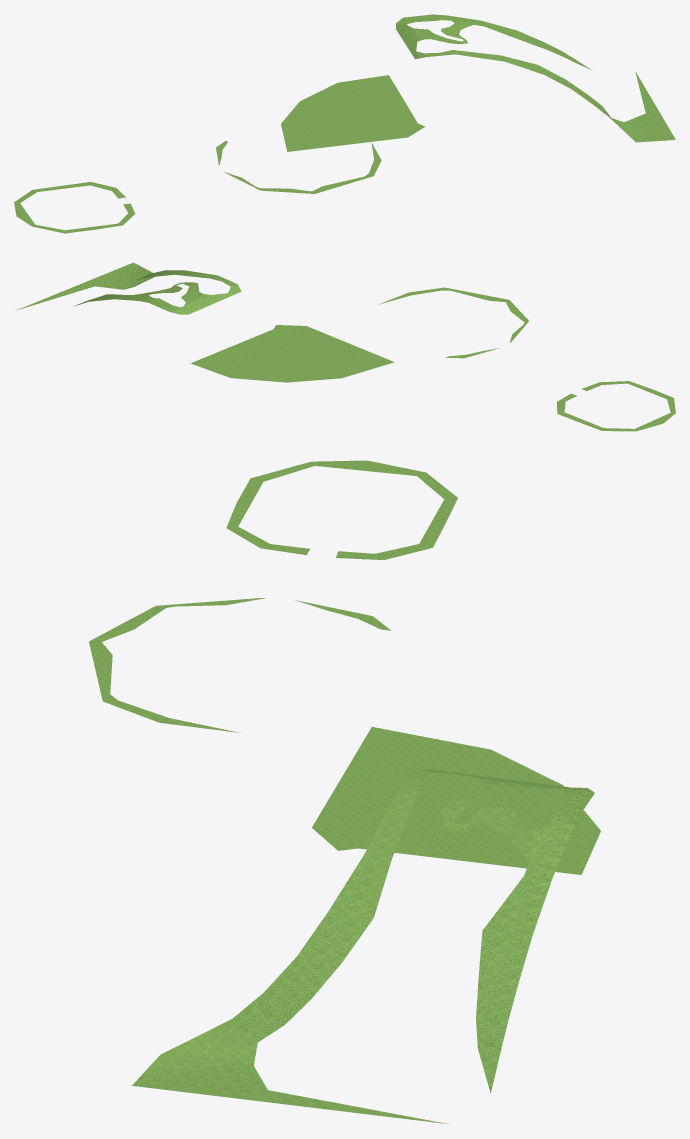
The model's file is kd_stage_1363c5_4_5.glb.
The picture shows the model from 3 angles, top to bottom: view 1: azimuth 30°, elevation 25°; view 2: azimuth 150°, elevation 25°; view 3: azimuth 270°, elevation 25°; orthographic projection. The views are drawn at different scales.
Visible parts, largest first — view 1: kd_stage_1363c5_4_5; view 2: kd_stage_1363c5_4_5; view 3: kd_stage_1363c5_4_5.
Part boxes in pixels (left/top/right/bottom): kd_stage_1363c5_4_5: left=14, top=14, right=675, bottom=233; kd_stage_1363c5_4_5: left=16, top=262, right=675, bottom=431; kd_stage_1363c5_4_5: left=89, top=460, right=600, bottom=1124.
Bounding box in the file's own units: 491 × 54.03 × 173.
Materials: 1 (1 with a texture image).
